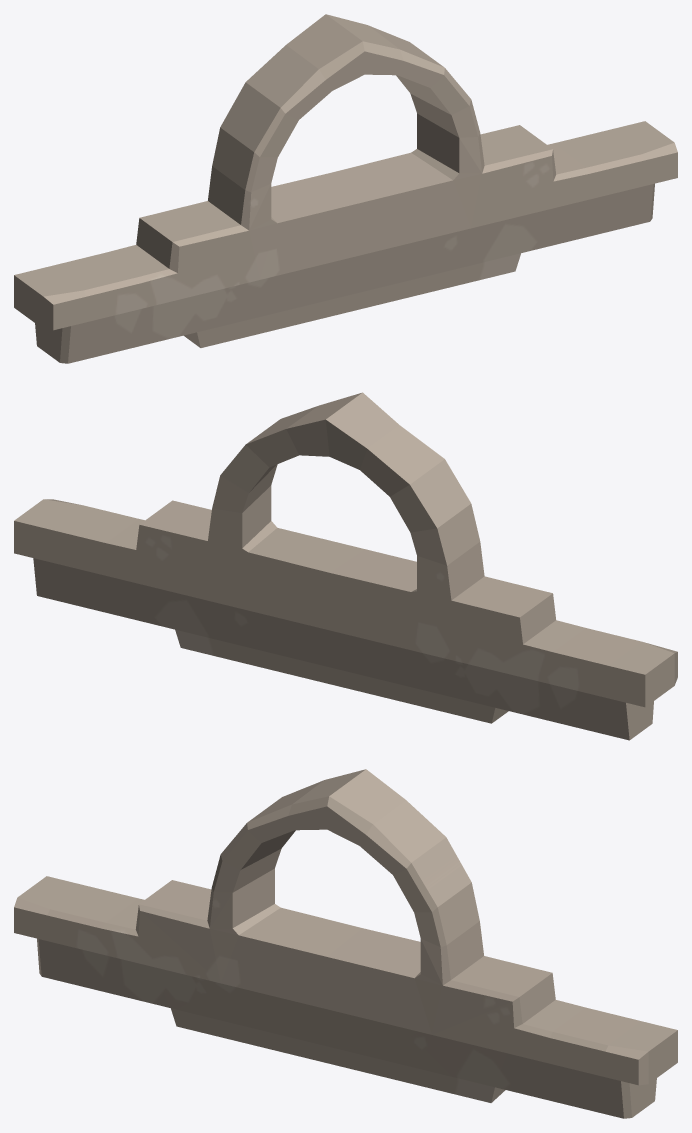
File: SM_Bld_Village_Edge_01.fbx
The picture shows the model from 3 angles, top to bottom: view 1: azimuth 30°, elevation 25°; view 2: azimuth 150°, elevation 25°; view 3: azimuth 330°, elevation 25°; orthographic projection.
Visible parts, largest first — view 1: SM_Bld_Village_Edge_01; view 2: SM_Bld_Village_Edge_01; view 3: SM_Bld_Village_Edge_01.
Part boxes in pixels (<box>): SM_Bld_Village_Edge_01: <box>14,14,677,363</box>; SM_Bld_Village_Edge_01: <box>14,392,677,740</box>; SM_Bld_Village_Edge_01: <box>14,769,677,1118</box>.
Bounding box in the file's own units: 487 × 200 × 53.29.
